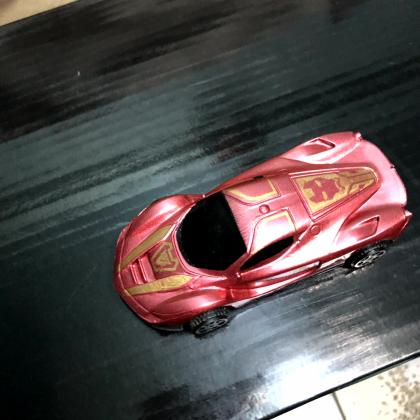Car: (112, 132, 414, 341)
